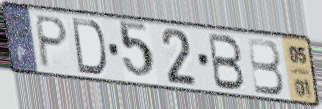2: (161, 26, 199, 89)
5: (116, 19, 157, 84)
B: (245, 36, 286, 97), (207, 31, 247, 92)
D: (70, 17, 109, 77)
P: (35, 13, 70, 71)
